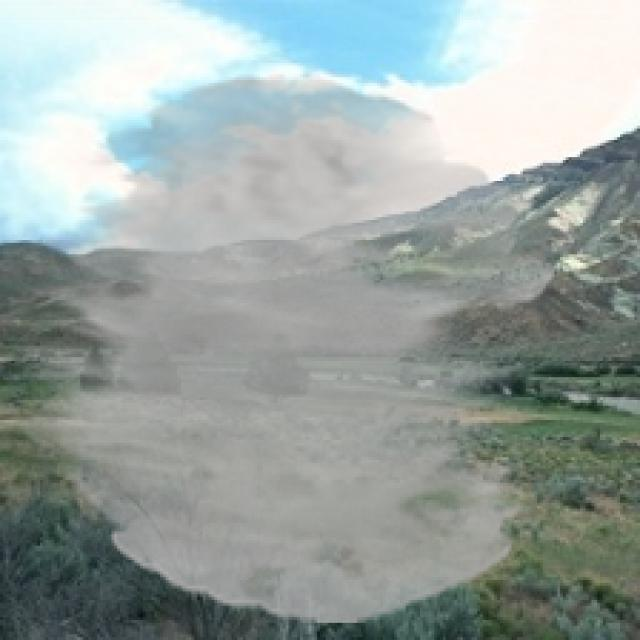smoke: (12, 74, 554, 623)
